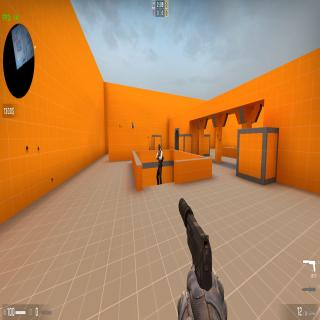T-Body: (156, 144, 163, 185), (132, 122, 134, 129)
T-Head: (158, 144, 160, 152), (132, 122, 133, 126)
